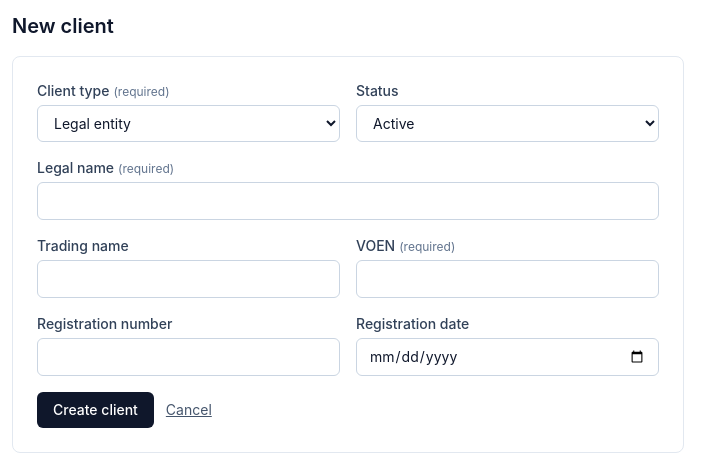
Scenario: ClientCreatePage › switches to individual subtype fields
This screenshot has width=701, height=470.
Select "Individual" in the dropdown labelled "Client type(required)" at (188, 124), box [37, 105, 340, 142]
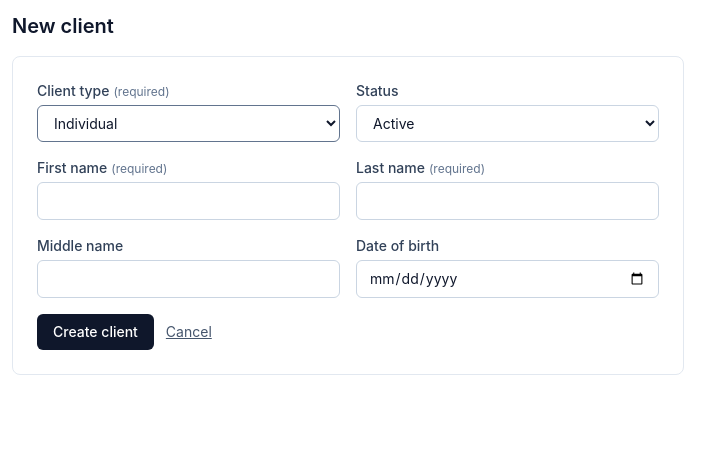
Check: the field labelled "First name(required)" is shown, box [37, 182, 340, 220]
Check: the field labelled "Last name(required)" is shown, box [356, 182, 659, 220]
Check: the label labelled "Legal name" is gone
